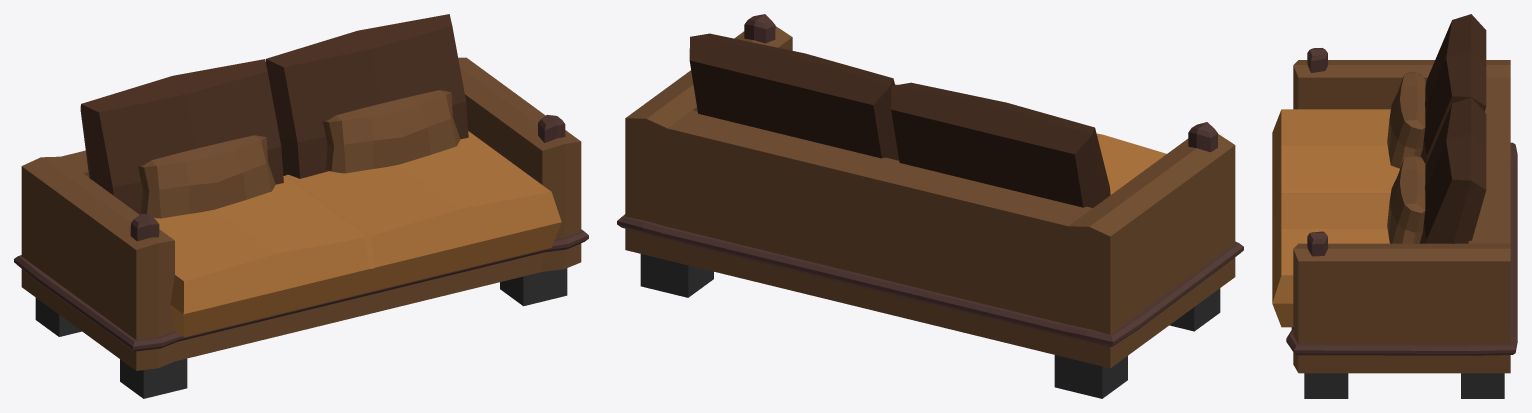
File: Prop_Sofa_02_F.fbx
3 views of the same model, side by side, from view 1: azimuth 30°, elevation 25°; view 2: azimuth 150°, elevation 25°; view 3: azimuth 270°, elevation 25° (orthographic). The views are drawn at different scales.
Parts seen in each view (by area): view 1: Prop_Sofa_02_F; view 2: Prop_Sofa_02_F; view 3: Prop_Sofa_02_F.
Boxes of the visible parts, x1=… form: Prop_Sofa_02_F: x1=14, y1=14, x2=588, y2=398; Prop_Sofa_02_F: x1=617, y1=14, x2=1243, y2=398; Prop_Sofa_02_F: x1=1272, y1=14, x2=1517, y2=398.
Bounding box in the file's own units: 200 × 95 × 100.
